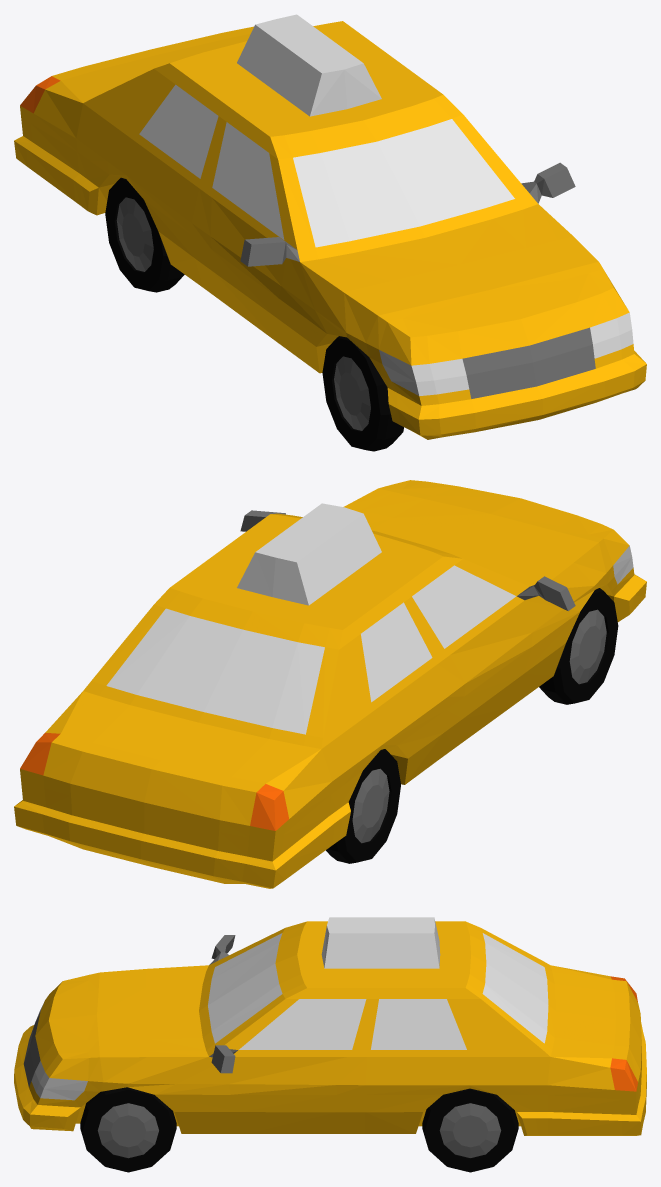
Rendered from Taxi.obj.
The picture shows the model from 3 angles, top to bottom: view 1: azimuth 30°, elevation 25°; view 2: azimuth 150°, elevation 25°; view 3: azimuth 270°, elevation 25°; orthographic projection. The views are drawn at different scales.
Parts seen in each view (by area): view 1: Taxi; view 2: Taxi; view 3: Taxi.
Part boxes in pixels (x1,y1,x2,y2): Taxi: (14,14,646,451); Taxi: (14,480,646,888); Taxi: (14,917,646,1172).
Size of the model in its own units: 52.25 by 39.4 by 111.
1 material, 1 textured.
